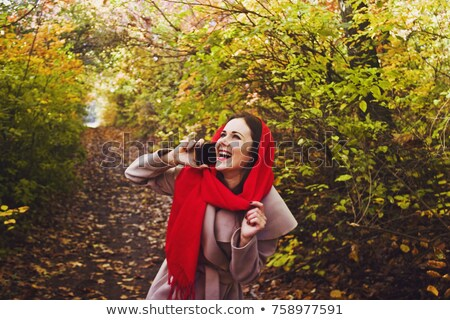phone: (188, 141, 214, 167)
talk: (176, 128, 246, 177)
